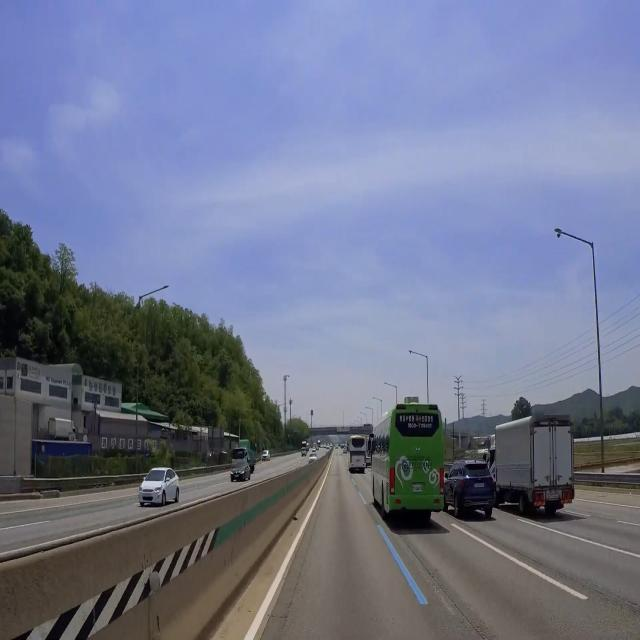car: (547, 489, 564, 506), (411, 480, 428, 495), (472, 481, 486, 493)
